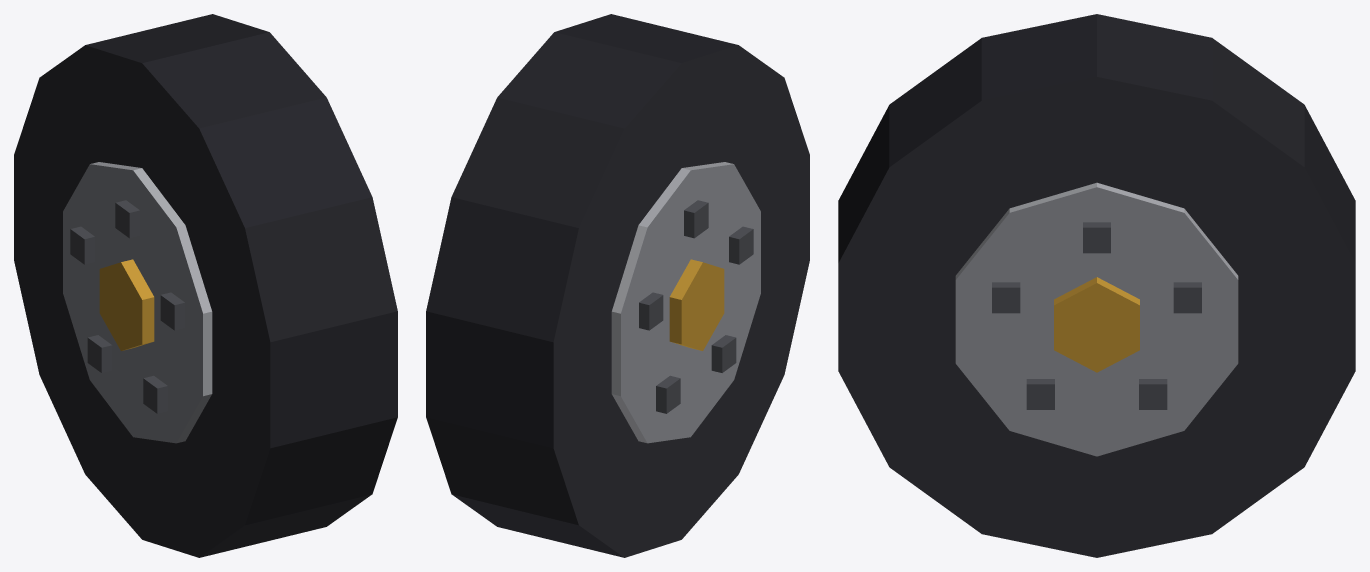
File: wheel.glb
3 renders of one model, left to right at view 1: azimuth 30°, elevation 25°; view 2: azimuth 150°, elevation 25°; view 3: azimuth 270°, elevation 25°, orthographic.
Parts seen in each view (by area): view 1: wheel; view 2: wheel; view 3: wheel.
Part boxes in pixels (x1=…): wheel: x1=14, y1=14, x2=397, y2=557; wheel: x1=426, y1=14, x2=809, y2=557; wheel: x1=838, y1=14, x2=1355, y2=557.
Size of the model in its own units: 0.56 by 1.5 by 1.46.
